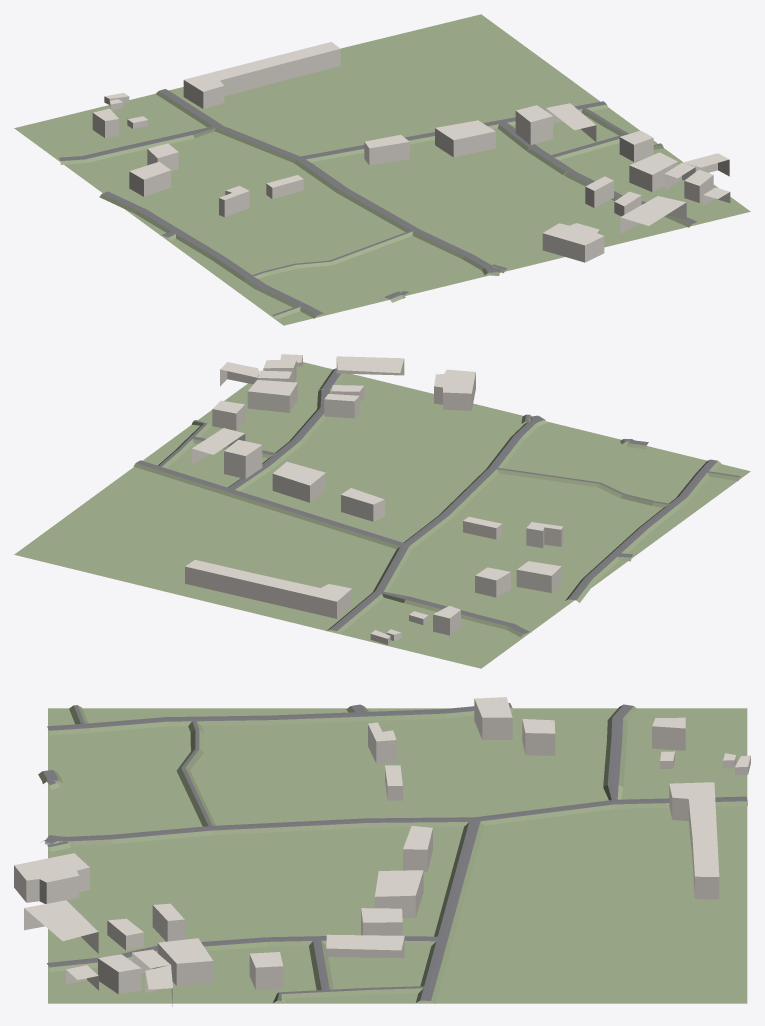
The model's file is dhamrai_chunk_x-1_z-1.glb.
3 renders of one model, top to bottom at view 1: azimuth 30°, elevation 25°; view 2: azimuth 150°, elevation 25°; view 3: azimuth 270°, elevation 25°, orthographic. The views are drawn at different scales.
Visible parts, largest first — view 1: terrain, buildings, roads, embankments; view 2: terrain, buildings, embankments, roads; view 3: terrain, buildings, embankments, roads.
Boxes of the visible parts, x1,y1,x2,y2 form: terrain: [14, 14, 750, 325]; buildings: [92, 42, 730, 262]; roads: [59, 89, 696, 315]; embankments: [60, 90, 691, 319]; terrain: [14, 362, 750, 668]; buildings: [185, 354, 563, 644]; embankments: [133, 368, 739, 637]; roads: [136, 368, 740, 634]; terrain: [48, 708, 747, 1003]; buildings: [14, 697, 750, 1006]; embankments: [38, 704, 747, 1003]; roads: [43, 703, 747, 1000].
Bounding box in the file's own units: 269 × 13.23 × 270.
